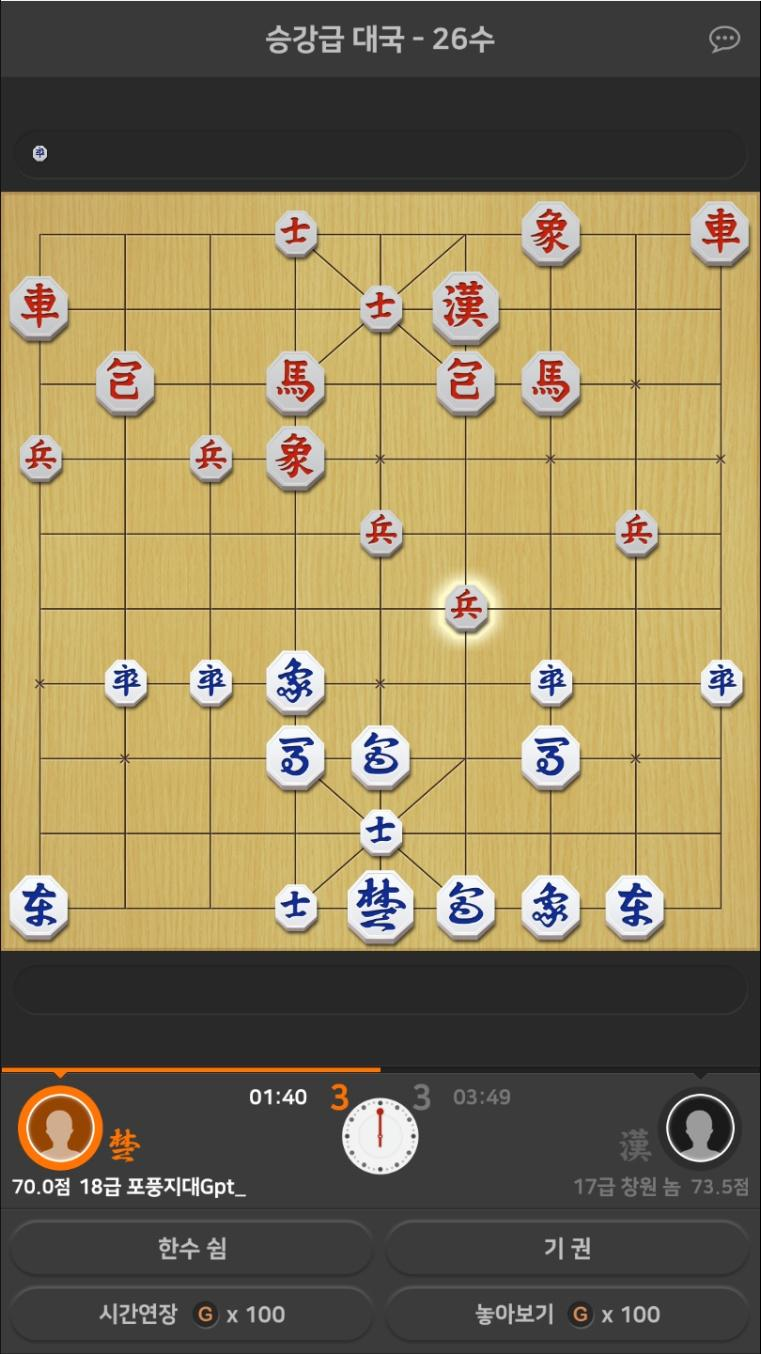cha_green: (9, 873, 67, 939), (603, 877, 665, 934)
cha_red: (691, 200, 749, 262), (12, 276, 68, 339)
jol_green: (529, 661, 577, 706), (699, 658, 742, 708), (193, 657, 233, 708), (105, 660, 146, 704)
jol_red: (443, 582, 488, 637), (191, 435, 232, 485), (21, 435, 62, 485), (361, 508, 400, 556), (616, 510, 656, 556)
ma_green: (266, 726, 326, 790), (523, 727, 580, 791)
ma_red: (268, 354, 323, 419), (524, 349, 578, 413)
po_green: (353, 727, 410, 791), (438, 877, 494, 942)
po_red: (438, 350, 494, 416), (99, 352, 153, 417)
sa_green: (360, 811, 405, 856), (277, 884, 317, 932)
sa_red: (276, 209, 316, 257), (362, 284, 402, 332)
sang_green: (523, 874, 579, 940), (269, 651, 324, 714)
sang_red: (523, 205, 583, 269), (270, 425, 324, 490)
wang_green: (348, 873, 411, 945)
wang_red: (428, 274, 502, 343)
